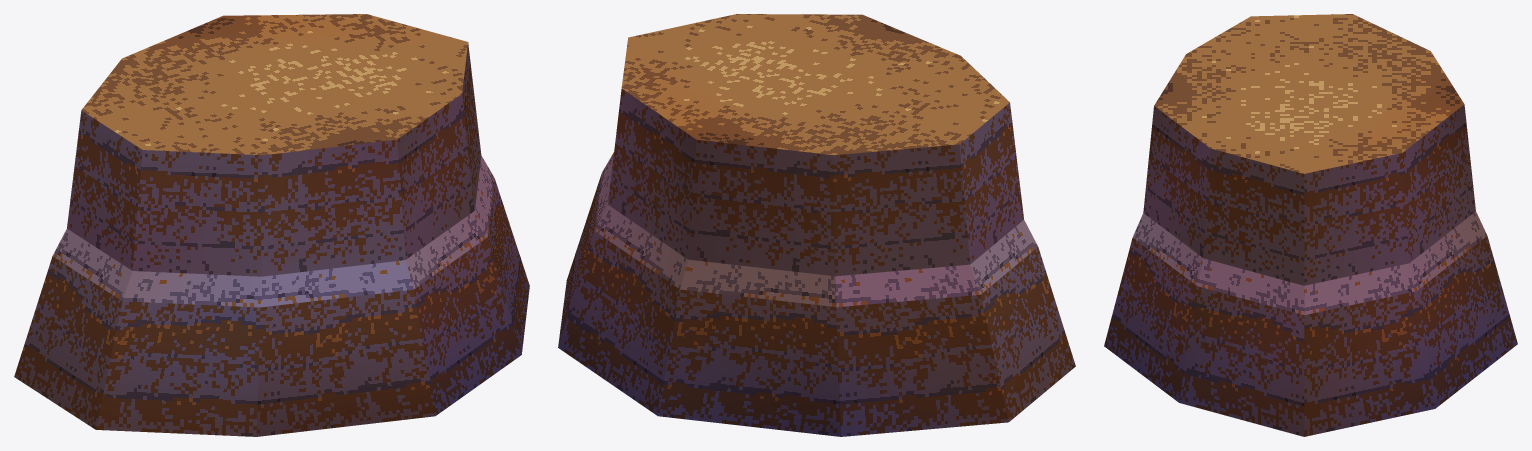
The model's file is planet.mesa.glb.
3 views of the same model, side by side, from view 1: azimuth 30°, elevation 25°; view 2: azimuth 150°, elevation 25°; view 3: azimuth 270°, elevation 25° (orthographic). The views are drawn at different scales.
Visible parts, largest first — view 1: kit_mesa; view 2: kit_mesa; view 3: kit_mesa.
Boxes of the visible parts, <box> form: kit_mesa: <box>14,14,529,436</box>; kit_mesa: <box>558,14,1075,436</box>; kit_mesa: <box>1104,14,1517,436</box>.
Size of the model in its own units: 9.7 by 5 by 7.96.
Materials: 3 (3 with a texture image).
